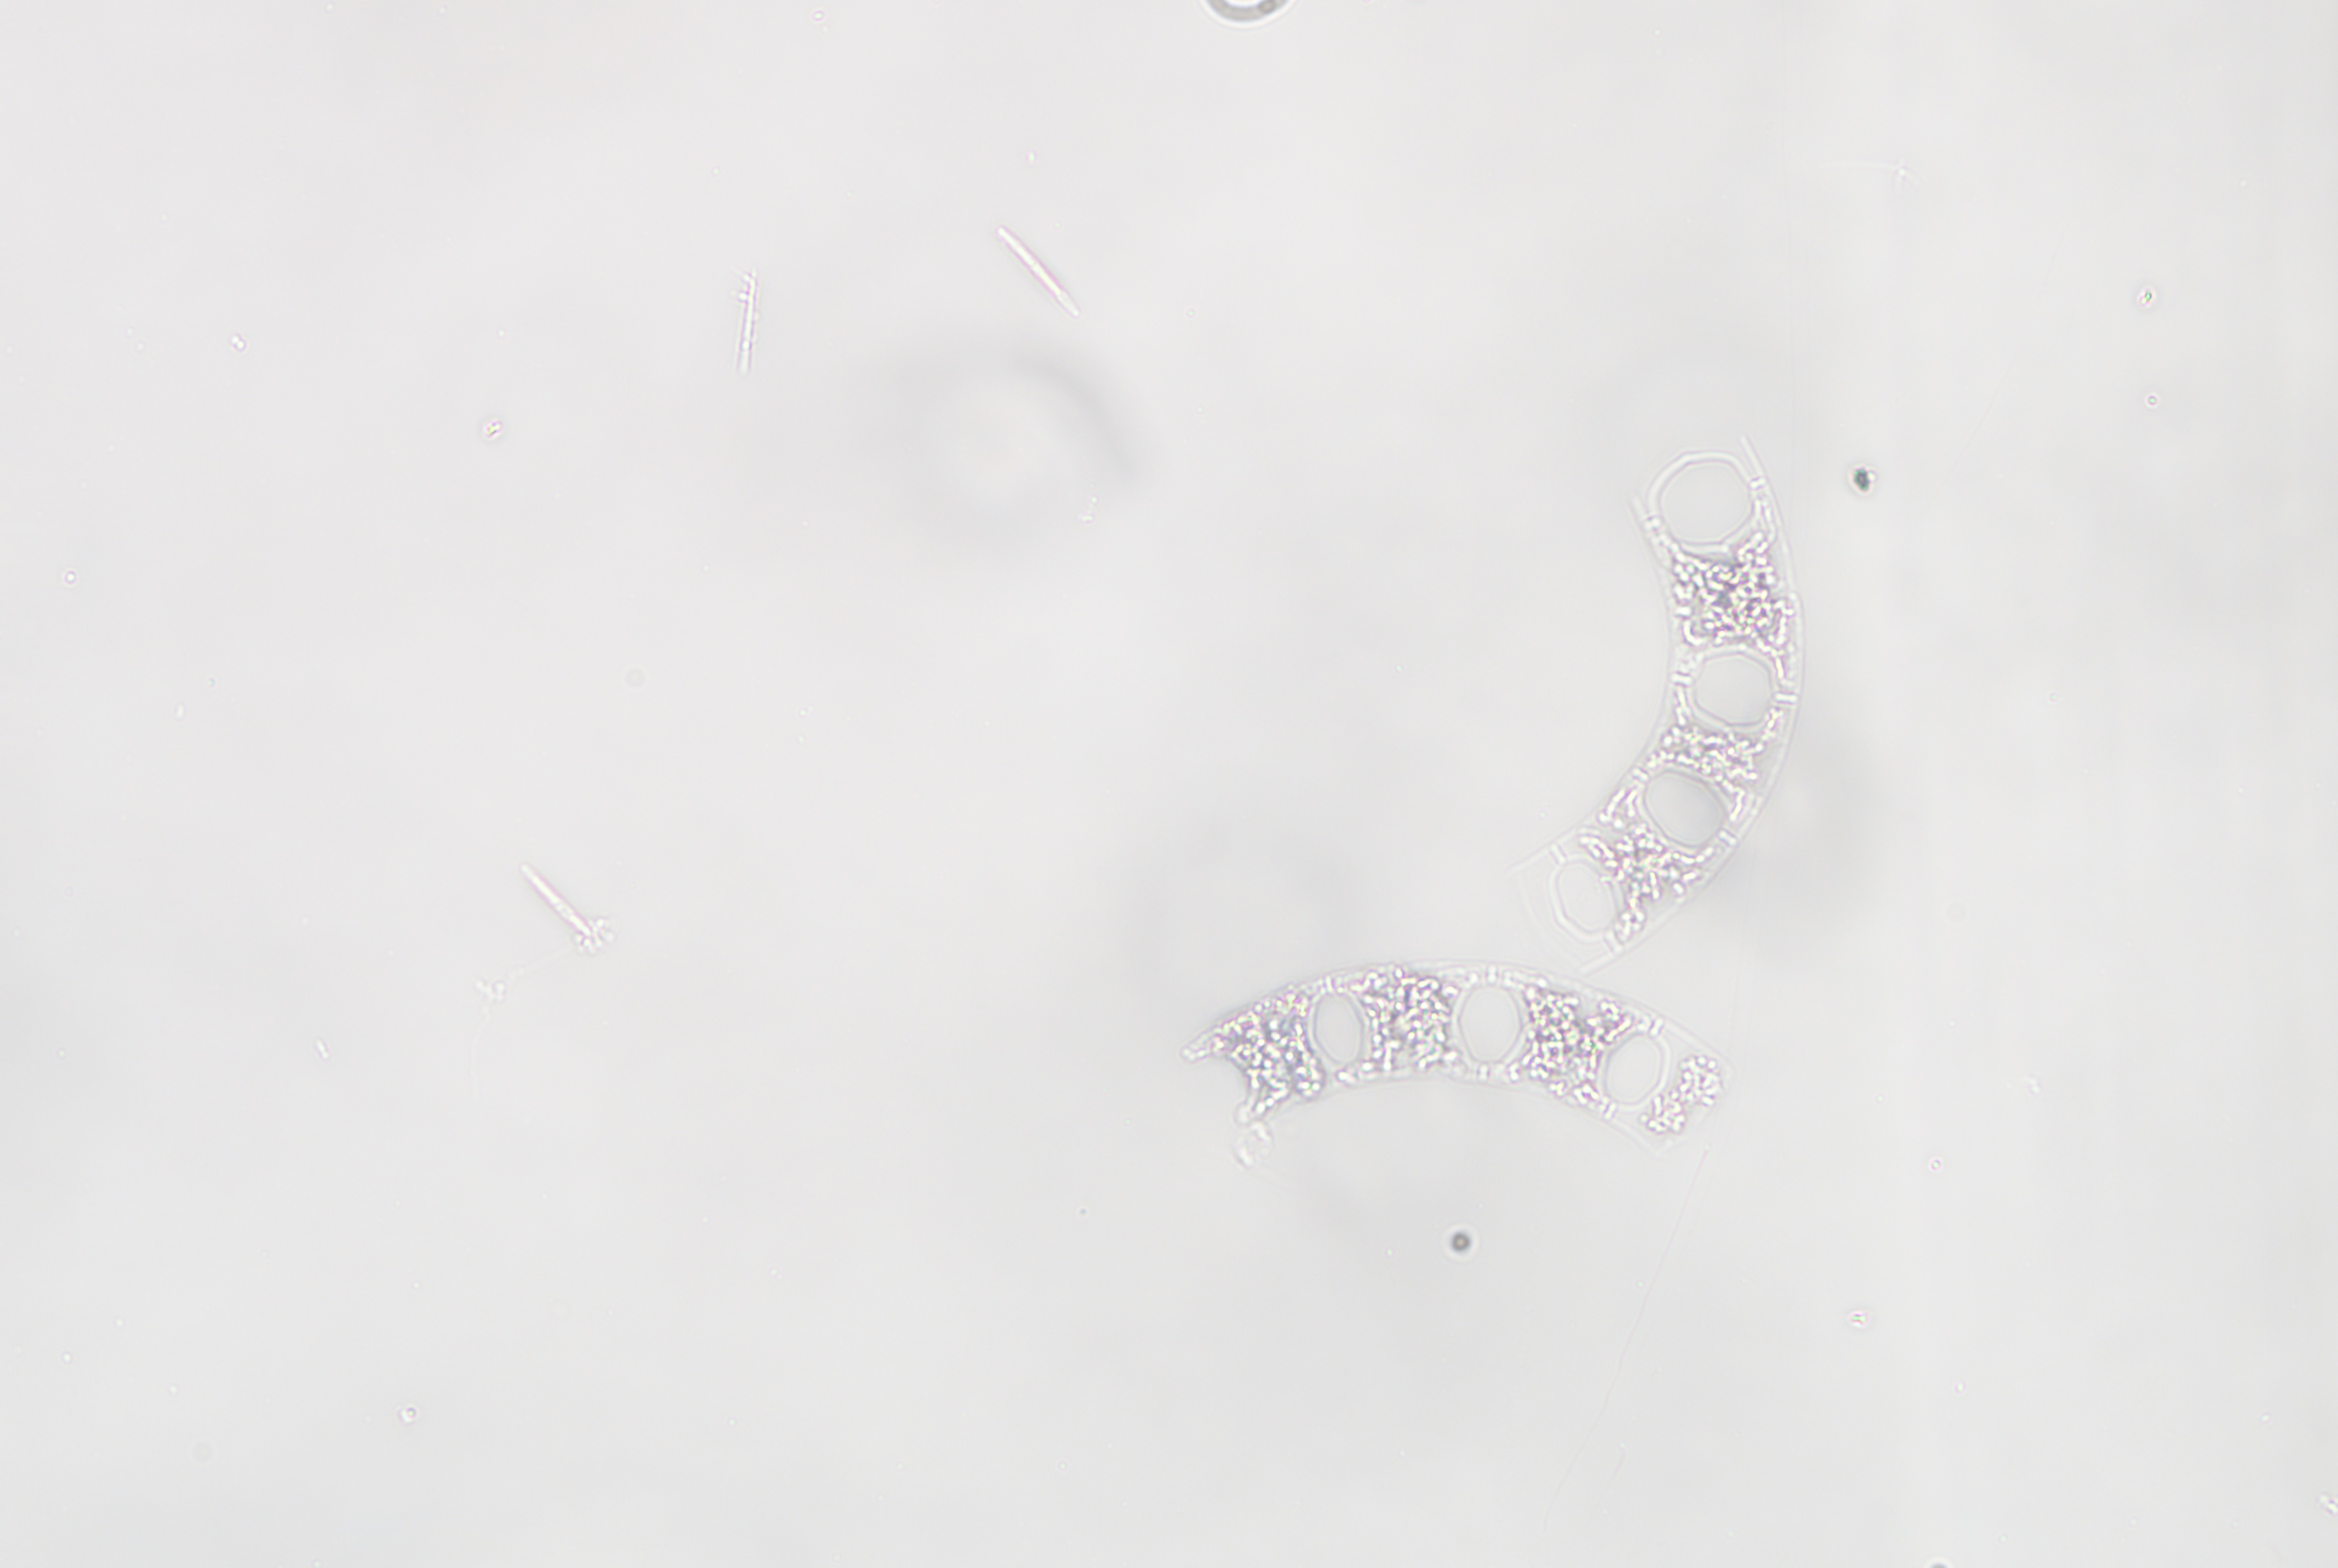eucampia: (1528, 404, 1843, 969), (1162, 943, 1806, 1169)
